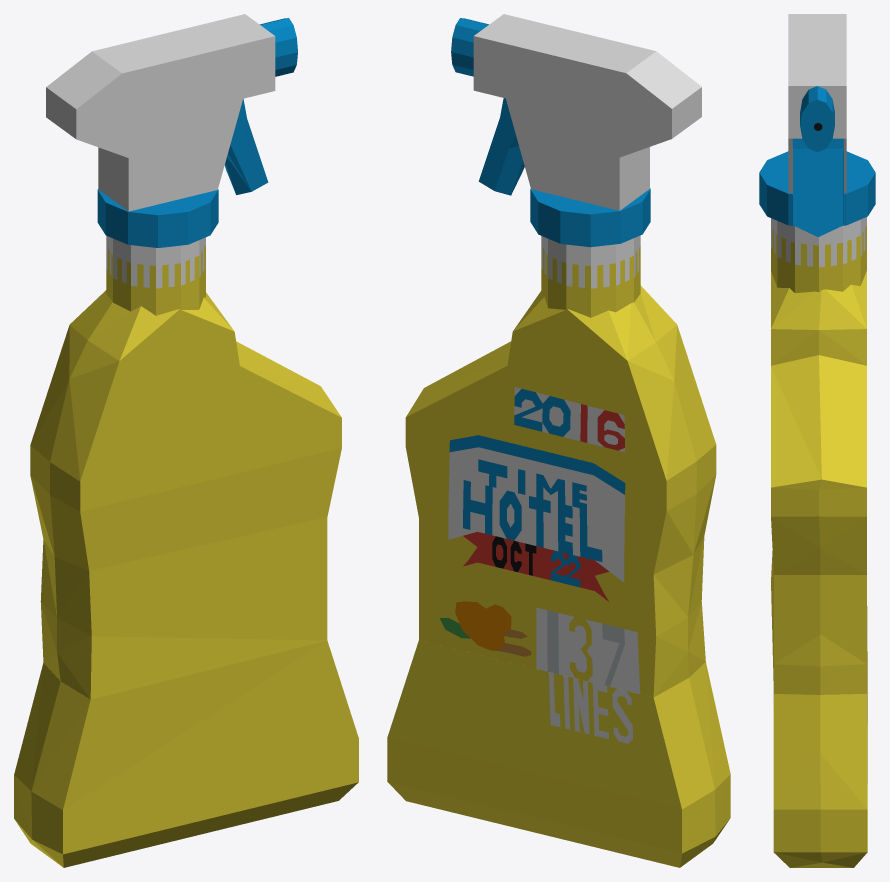
3 views of the same model, side by side, from view 1: azimuth 30°, elevation 25°; view 2: azimuth 150°, elevation 25°; view 3: azimuth 270°, elevation 25° (orthographic). The views are drawn at different scales.
Visible parts, largest first — view 1: node_MeshObject-929646592-PolyPaper12; view 2: node_MeshObject-929646592-PolyPaper12; view 3: node_MeshObject-929646592-PolyPaper12.
Part boxes in pixels (x1,y1,x2,y2): node_MeshObject-929646592-PolyPaper12: (14,14,358,867); node_MeshObject-929646592-PolyPaper12: (387,14,730,867); node_MeshObject-929646592-PolyPaper12: (759,14,875,867).
Bounding box in the file's own units: 1.18 × 2.85 × 0.4.
